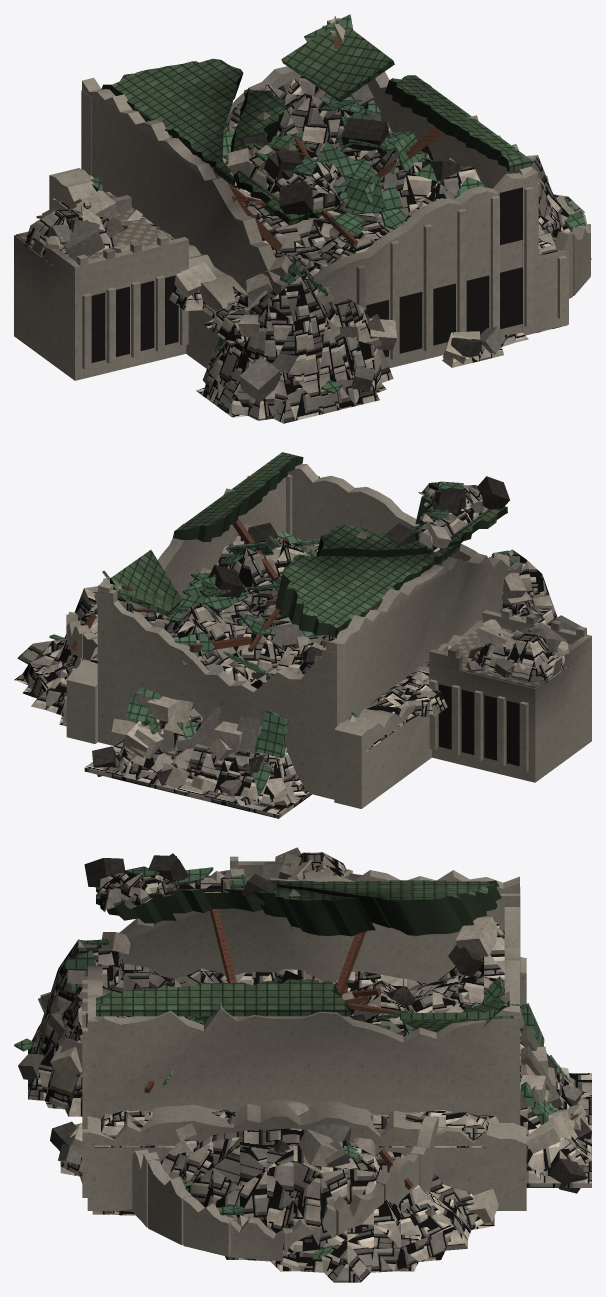
File: CreBuild04b.glb
The picture shows the model from 3 angles, top to bottom: view 1: azimuth 30°, elevation 25°; view 2: azimuth 150°, elevation 25°; view 3: azimuth 270°, elevation 25°; orthographic projection. The views are drawn at different scales.
Visible parts, largest first — view 1: marble; view 2: marble; view 3: marble.
Part boxes in pixels (x1=…): marble: x1=14, y1=14, x2=591, y2=423; marble: x1=14, y1=452, x2=591, y2=818; marble: x1=14, y1=847, x2=591, y2=1282.
Bounding box in the file's own units: 20.93 × 7.75 × 17.25.
Materials: 11 (10 with a texture image).
